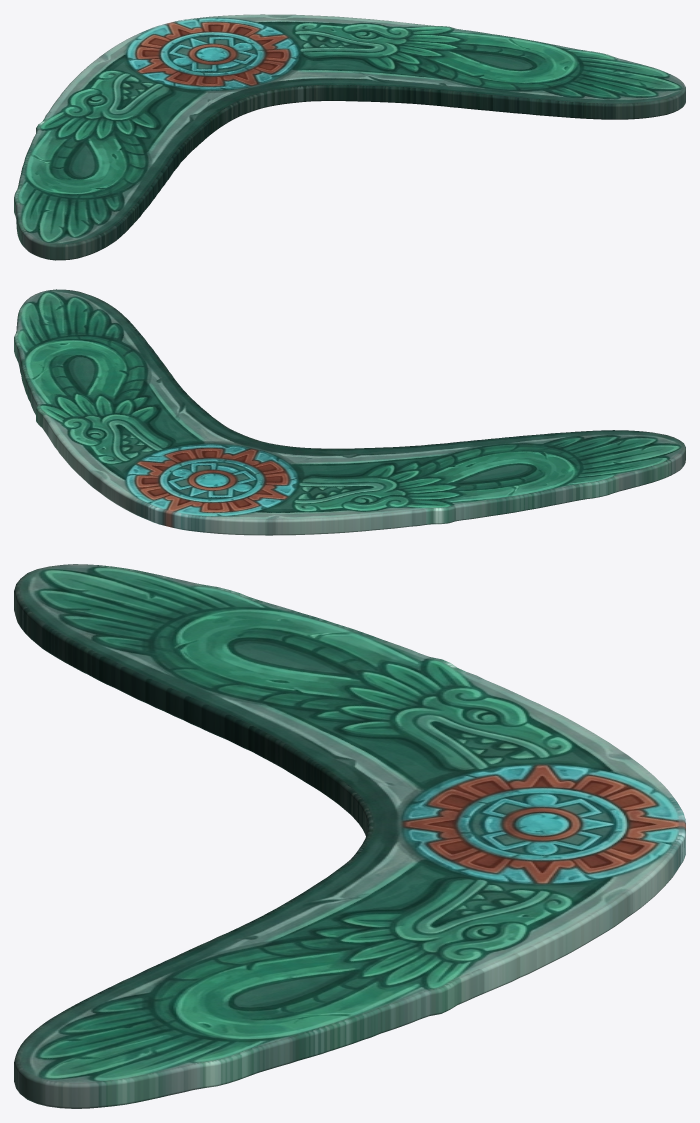
The model's file is Boomerang_55.fbx.
3 views of the same model, one above another, from view 1: azimuth 30°, elevation 25°; view 2: azimuth 150°, elevation 25°; view 3: azimuth 270°, elevation 25° (orthographic). The views are drawn at different scales.
Visible parts, largest first — view 1: Boomerang_55; view 2: Boomerang_55; view 3: Boomerang_55.
Part boxes in pixels (x1,y1,x2,y2): Boomerang_55: (14,14,685,260); Boomerang_55: (14,289,685,535); Boomerang_55: (14,564,685,1108).
Size of the model in its own units: 202 by 4.5 by 110.
Materials: 1 (1 with a texture image).
